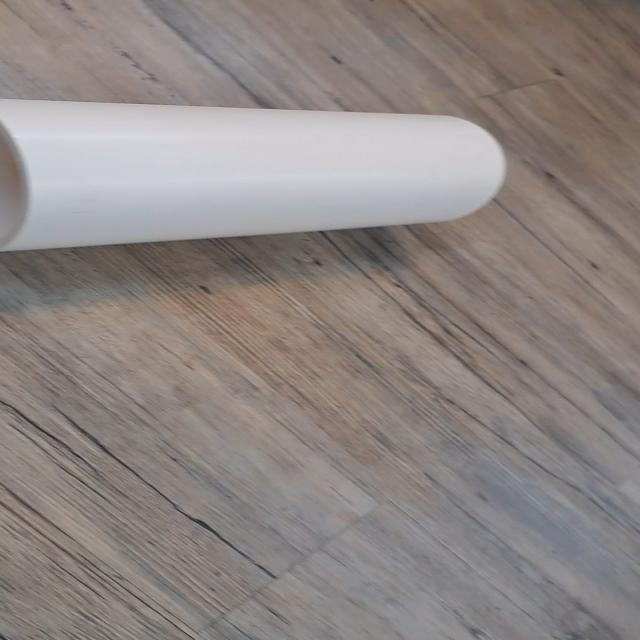CORAL: (0, 68, 513, 261)
